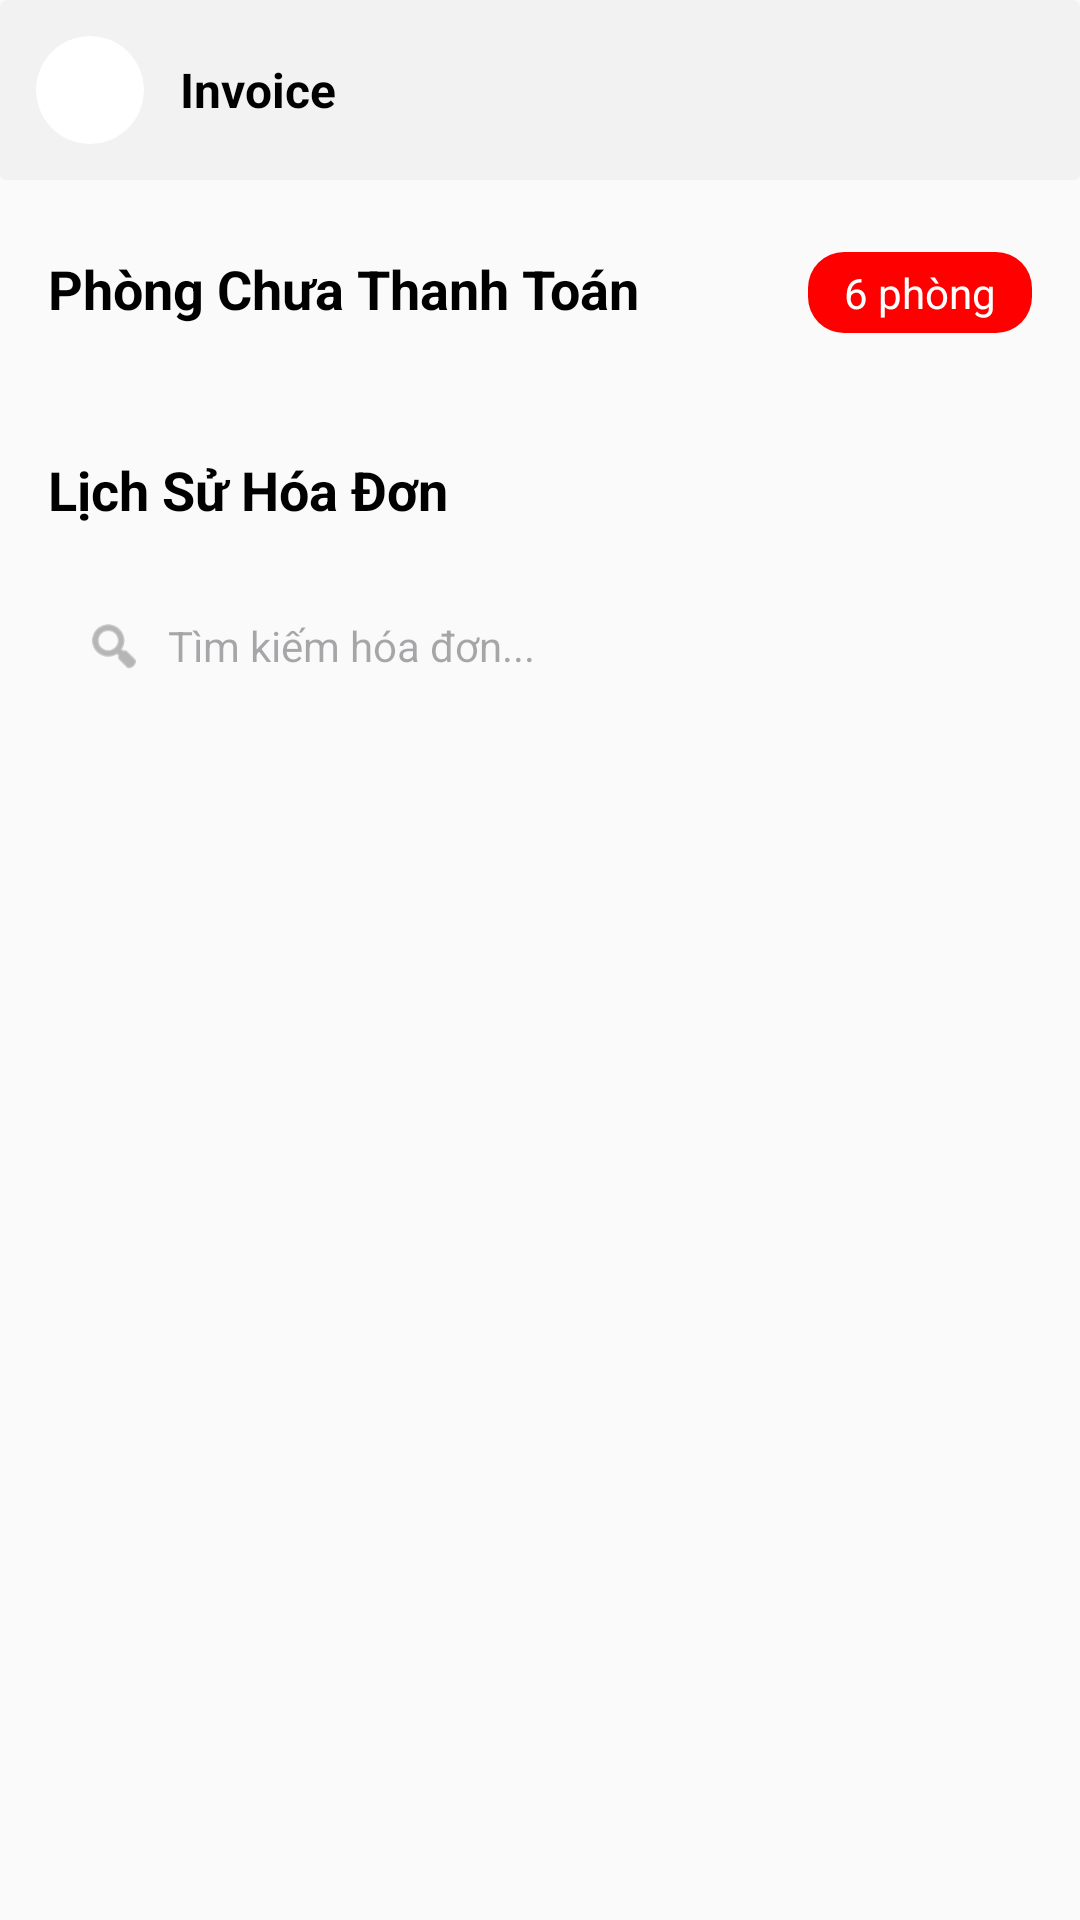

Locate icon controls on the screen. Image size 1080px x 1920px, boxes as BBox(x1, y1, x2, y2).
search: BBox(92, 624, 136, 668)
